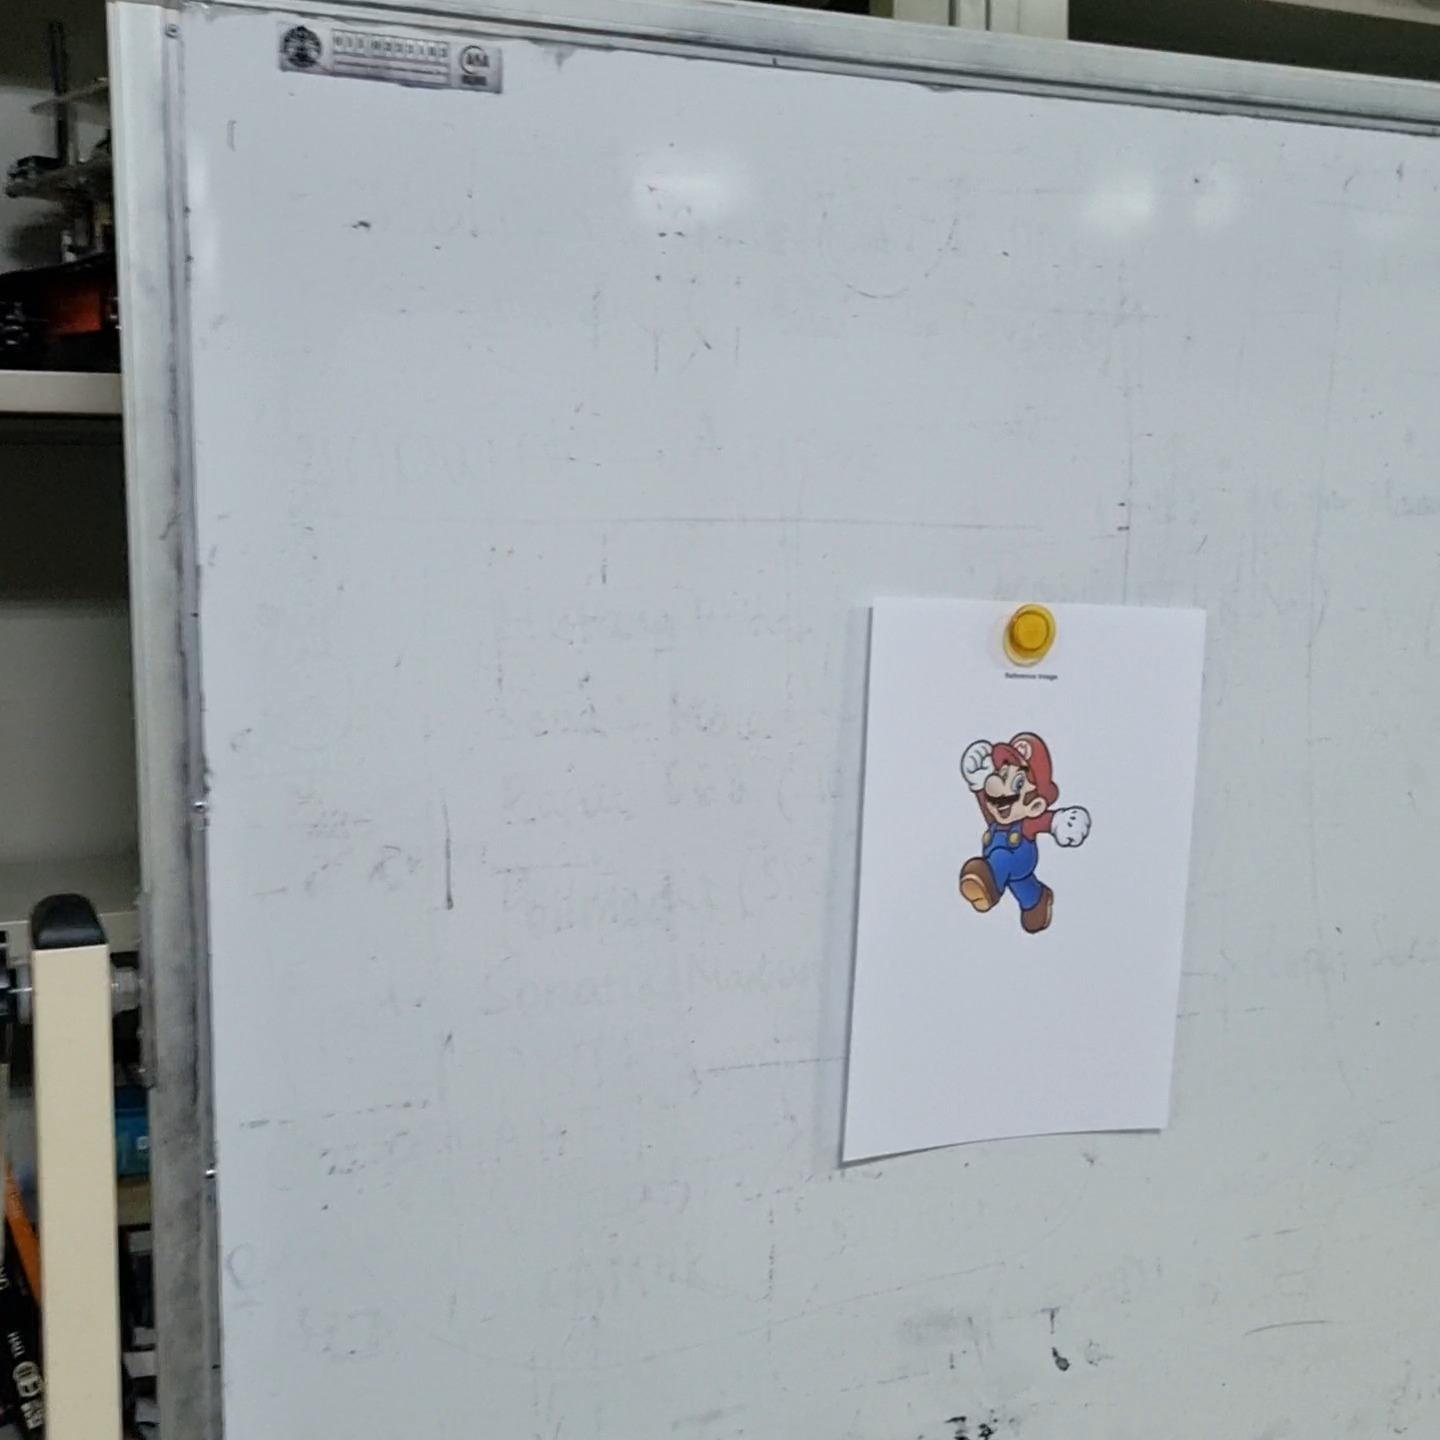mario: (951, 720, 1097, 939)
